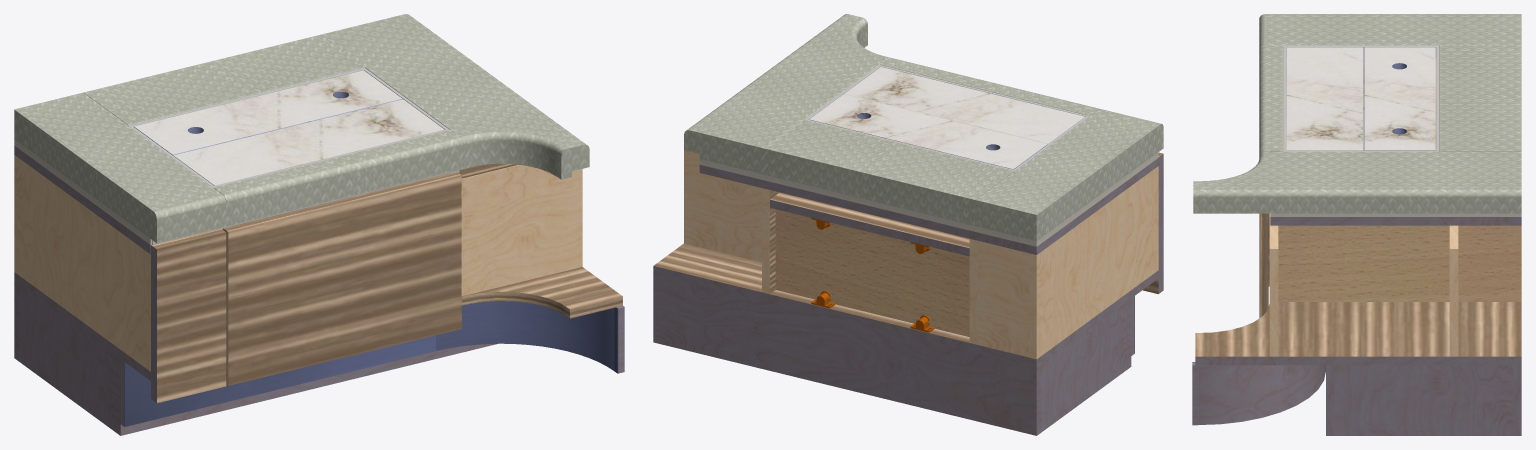
The model's file is komodin.glb.
3 renders of one model, left to right at view 1: azimuth 30°, elevation 25°; view 2: azimuth 150°, elevation 25°; view 3: azimuth 270°, elevation 25°, orthographic. The views are drawn at different scales.
Visible parts, largest first — view 1: 505-91 MİSAFİR KABİN 202 KOMODİN_ÇEKMECE_v3_1_KILAPA 1_BLUM_ (×2), NB85-MİSAFİR KABİN 202 Yatak Komodin_DIKME____-1 - Parça, NB85-MİSAFİR KABİN 202 Yatak Komodin__2A_SOLDUVAR PANELİ TAR, NB85-MİSAFİR KABİN 202 Yatak Komodin_DIKME___-1 - Parça, NB85-MİSAFİR KABİN 202 Komodin Paslanamaz_1-1 - Parça, NB85-MİSAFİR KABİN 202 Yatak Komodin__2A_ON_ARKA_YAN DİKME-1, NB85-MİSAFİR KABİN 202 Misafir Yatak_Panel_Sol Okaliptus Kap (×2), NB85-MİSAFİR KABİN 202 Yatak Komodin_DIKME___1___-1 - Parça, NB85-MİSAFİR KABİN 202 Yatak Komodin_DIKME___1__-1 - Parça, NB85-MİSAFİR KABİN 202 Misafir Yatak Komodin_Mermer _2_-1 - , NB85-MİSAFİR KABİN 202 Misafir Yatak Komodin_Mermer _1_-1 - , NB85-MİSAFİR KABİN 202 Yatak Komodin__2A_BAZA_1_SAĞ PANEL_1_ (+5 smaller); view 2: NB85-MİSAFİR KABİN 202 Yatak Komodin__2A_BAZA_1_ÖN PANEL_1__, NB85-MİSAFİR KABİN 202 Yatak Komodin_KARKASLI_3_KARKASLI_ALT (×5), 505-91 MİSAFİR KABİN 202 KOMODİN_FASTMOUNTLU ARKALIK_1_ARKAL, NB85-MİSAFİR KABİN 202 Yatak Komodin_DIKME___1___-1 - Parça, NB85-MİSAFİR KABİN 202 Yatak Komodin__2A_SOLDUVAR PANELİ TAR, NB85-MİSAFİR KABİN 202 Yatak Komodin_DIKME____-1 - Parça, NB85-MİSAFİR KABİN 202 Yatak Komodin_DIKME___-1 - Parça, NB85-MİSAFİR KABİN 202 Misafir Yatak Komodin_Mermer _2_-1 - , NB85-MİSAFİR KABİN 202 Misafir Yatak Komodin_Mermer _1_-1 - , NB85-MİSAFİR KABİN 202 Yatak Komodin__2A_ON_ARKA _1212__-1 -, NB85-MİSAFİR KABİN 202 Yatak Komodin__2A_BAZA_1_SAĞ PANEL_1_, NB85-MİSAFİR KABİN 202 Yatak Komodin__2A_ON__-1 - Parça (+6 smaller); view 3: NB85-MİSAFİR KABİN 202 Yatak Komodin_KARKASLI_3_KARKASLI_ALT (×3), NB85-MİSAFİR KABİN 202 Yatak Komodin_DIKME____-1 - Parça, NB85-MİSAFİR KABİN 202 Yatak Komodin__2A_SOL_İKİ__-1 - Parça, NB85-MİSAFİR KABİN 202 Yatak Komodin__2A_BAZA_1_SAĞ PANEL__-, NB85-MİSAFİR KABİN 202 Yatak Komodin_DIKME___1___-1 - Parça, NB85-MİSAFİR KABİN 202 Yatak Komodin_DIKME___-1 - Parça, NB85-MİSAFİR KABİN 202 Misafir Yatak Komodin_Mermer _2_-1 - , NB85-MİSAFİR KABİN 202 Misafir Yatak Komodin_Mermer _1_-1 -  (×2), NB85-MİSAFİR KABİN 202 Misafir Yatak_KOMODİN_2__-1 - Parça, NB85-MİSAFİR KABİN 202 Yatak Komodin_DIKME___1__-1 - Parça, NB85-MİSAFİR KABİN 202 Yatak Komodin__2A_ON_ARKA_YAN DİKME-1, NB85-MİSAFİR KABİN 202 Yatak Komodin Mermer Etrafı Paslanmaz (×3) (+5 smaller).
Boxes of the visible parts, <box> form: 505-91 MİSAFİR KABİN 202 KOMODİN_ÇEKMECE_v3_1_KILAPA 1_BLUM_ (×2): <box>223,171,461,385</box>; NB85-MİSAFİR KABİN 202 Yatak Komodin_DIKME____-1 - Parça: <box>321,14,589,179</box>; NB85-MİSAFİR KABİN 202 Yatak Komodin__2A_SOLDUVAR PANELİ TAR: <box>14,155,150,371</box>; NB85-MİSAFİR KABİN 202 Yatak Komodin_DIKME___-1 - Parça: <box>14,92,226,243</box>; NB85-MİSAFİR KABİN 202 Komodin Paslanamaz_1-1 - Parça: <box>124,301,618,426</box>; NB85-MİSAFİR KABİN 202 Yatak Komodin__2A_ON_ARKA_YAN DİKME-1: <box>461,165,582,296</box>; NB85-MİSAFİR KABİN 202 Misafir Yatak_Panel_Sol Okaliptus Kap (×2): <box>151,232,226,403</box>; NB85-MİSAFİR KABİN 202 Yatak Komodin_DIKME___1___-1 - Parça: <box>83,34,364,125</box>; NB85-MİSAFİR KABİN 202 Yatak Komodin_DIKME___1__-1 - Parça: <box>214,130,463,226</box>; NB85-MİSAFİR KABİN 202 Misafir Yatak Komodin_Mermer _2_-1 - : <box>174,99,444,185</box>; NB85-MİSAFİR KABİN 202 Misafir Yatak Komodin_Mermer _1_-1 - : <box>134,70,402,154</box>; NB85-MİSAFİR KABİN 202 Yatak Komodin__2A_BAZA_1_SAĞ PANEL_1_: <box>19,285,115,432</box>; NB85-MİSAFİR KABİN 202 Yatak Komodin__2A_BAZA_1_ÖN PANEL_1__: <box>653,274,1040,435</box>; NB85-MİSAFİR KABİN 202 Yatak Komodin_KARKASLI_3_KARKASLI_ALT (×5): <box>653,158,1158,367</box>; 505-91 MİSAFİR KABİN 202 KOMODİN_FASTMOUNTLU ARKALIK_1_ARKAL: <box>775,209,969,336</box>; NB85-MİSAFİR KABİN 202 Yatak Komodin_DIKME___1___-1 - Parça: <box>764,119,1014,225</box>; NB85-MİSAFİR KABİN 202 Yatak Komodin__2A_SOLDUVAR PANELİ TAR: <box>1029,166,1158,359</box>; NB85-MİSAFİR KABİN 202 Yatak Komodin_DIKME____-1 - Parça: <box>684,14,888,174</box>; NB85-MİSAFİR KABİN 202 Yatak Komodin_DIKME___-1 - Parça: <box>975,109,1163,241</box>; NB85-MİSAFİR KABİN 202 Misafir Yatak Komodin_Mermer _2_-1 - : <box>844,67,1084,143</box>; NB85-MİSAFİR KABİN 202 Misafir Yatak Komodin_Mermer _1_-1 - : <box>809,94,1047,169</box>; NB85-MİSAFİR KABİN 202 Yatak Komodin__2A_ON_ARKA _1212__-1 -: <box>684,150,761,262</box>; NB85-MİSAFİR KABİN 202 Yatak Komodin__2A_BAZA_1_SAĞ PANEL_1_: <box>1041,301,1127,432</box>; NB85-MİSAFİR KABİN 202 Yatak Komodin__2A_ON__-1 - Parça: <box>977,240,1029,357</box>; NB85-MİSAFİR KABİN 202 Yatak Komodin_KARKASLI_3_KARKASLI_ALT (×3): <box>1195,217,1521,365</box>; NB85-MİSAFİR KABİN 202 Yatak Komodin_DIKME____-1 - Parça: <box>1193,151,1521,213</box>; NB85-MİSAFİR KABİN 202 Yatak Komodin__2A_SOL_İKİ__-1 - Parça: <box>1278,225,1521,301</box>; NB85-MİSAFİR KABİN 202 Yatak Komodin__2A_BAZA_1_SAĞ PANEL__-: <box>1334,365,1512,435</box>; NB85-MİSAFİR KABİN 202 Yatak Komodin_DIKME___1___-1 - Parça: <box>1439,45,1521,151</box>; NB85-MİSAFİR KABİN 202 Yatak Komodin_DIKME___-1 - Parça: <box>1259,14,1521,48</box>; NB85-MİSAFİR KABİN 202 Misafir Yatak Komodin_Mermer _2_-1 - : <box>1286,47,1362,150</box>; NB85-MİSAFİR KABİN 202 Misafir Yatak Komodin_Mermer _1_-1 -  (×2): <box>1363,47,1435,150</box>; NB85-MİSAFİR KABİN 202 Misafir Yatak_KOMODİN_2__-1 - Parça: <box>1192,362,1325,425</box>; NB85-MİSAFİR KABİN 202 Yatak Komodin_DIKME___1__-1 - Parça: <box>1259,45,1283,155</box>; NB85-MİSAFİR KABİN 202 Yatak Komodin__2A_ON_ARKA_YAN DİKME-1: <box>1269,214,1278,356</box>; NB85-MİSAFİR KABİN 202 Yatak Komodin Mermer Etrafı Paslanmaz (×3): <box>1283,45,1439,151</box>.
Bounding box in the file's own units: 0.7629 × 0.42 × 0.5482.
Materials: 118 (95 with a texture image).
